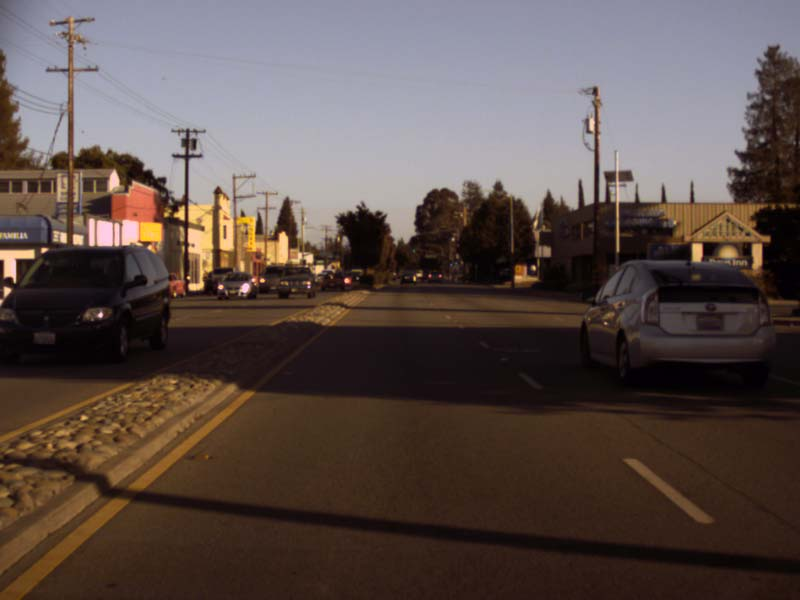Green: (411, 248, 416, 253)
